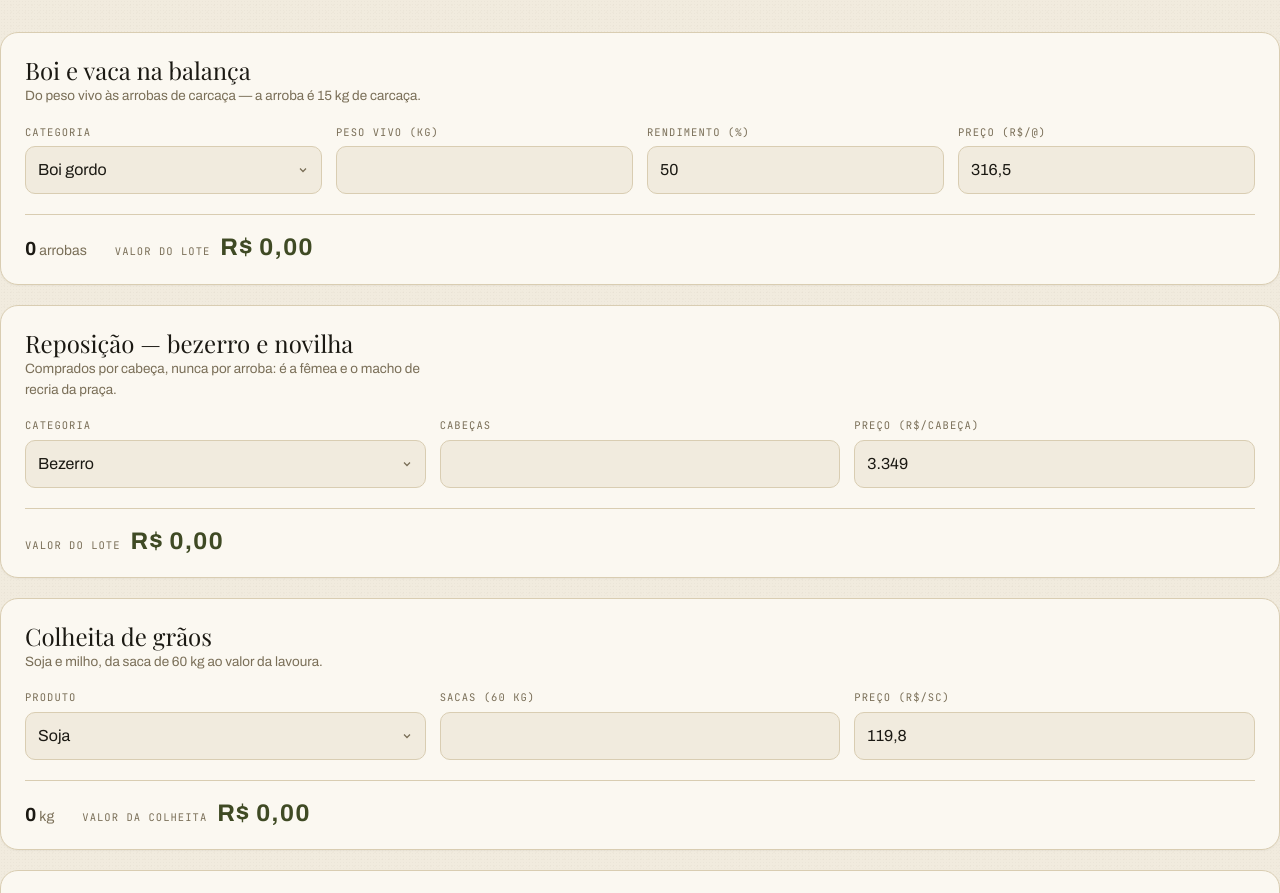
Scenario: Calculadora › novilha é calculada por CABEÇA, ao lado do bezerro
This screenshot has width=1280, height=893.
Select "Novilha" in the dropdown named "categoria de reposição" at (225, 464), box [25,440,426,488]
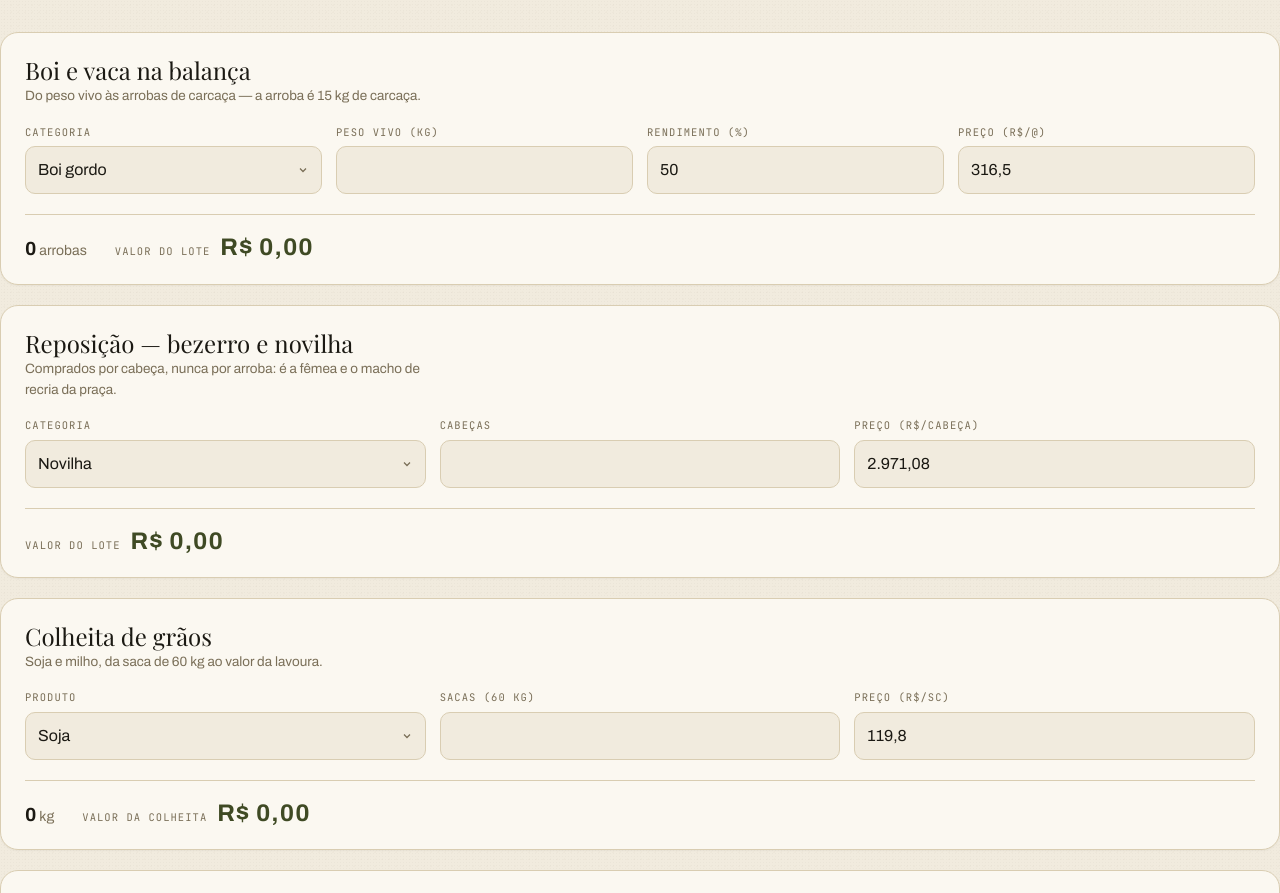
Check: the field labelled "Preço (R$/cabeça)" holds "2.971,08", box [854,440,1255,488]
Type "3" into the field labelled "Cabeças" at (640, 464), box [440,440,840,488]
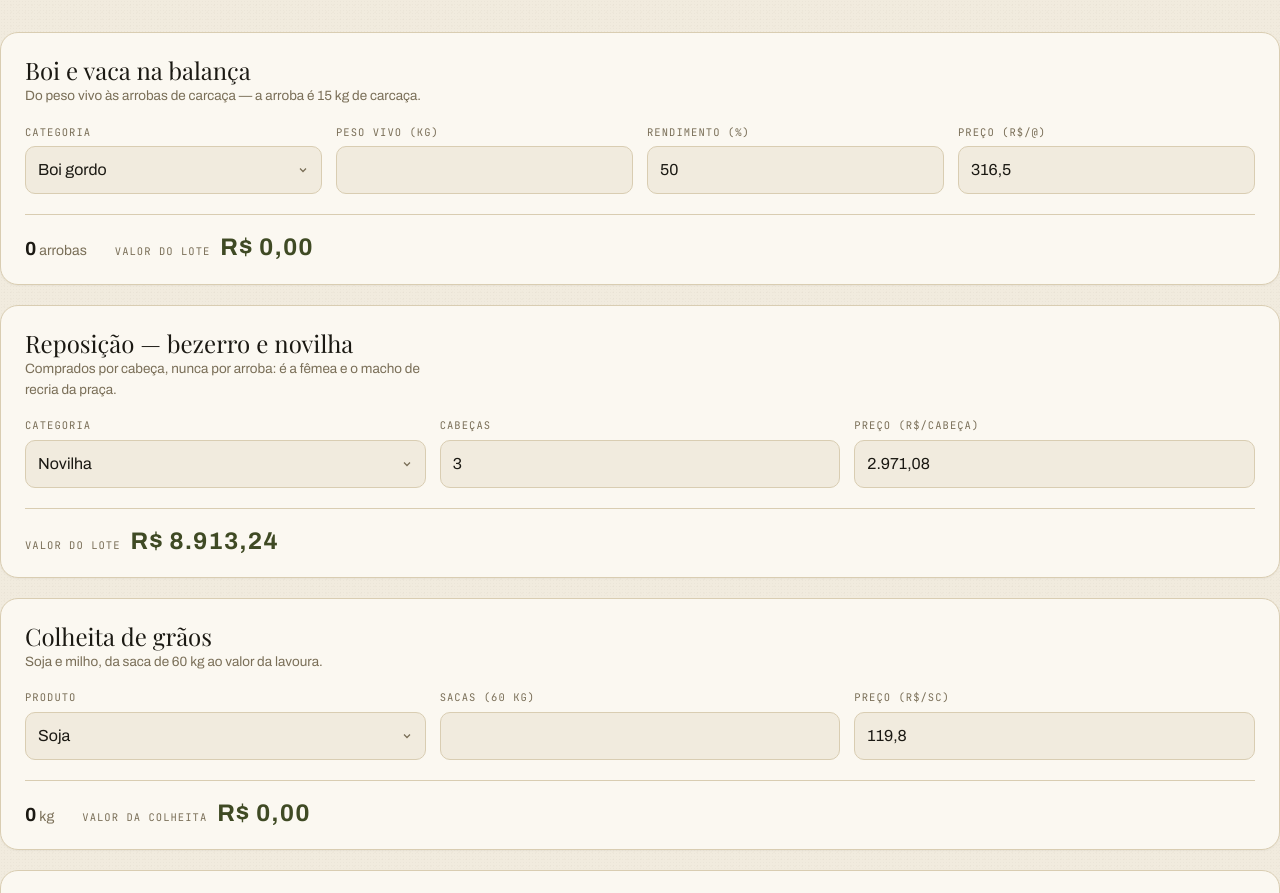
Check: the text with test id "reposicao-valor" reads "R$ 8.913,24", box [131,524,279,556]
